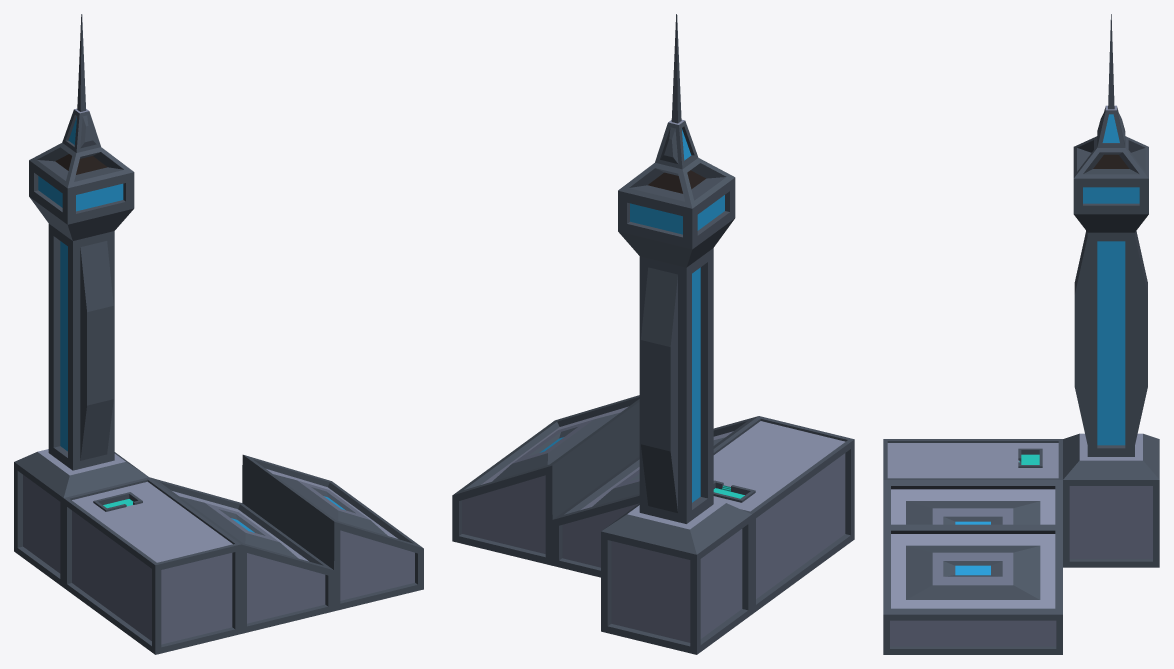
Rendered from FuturisticBuilding.fbx.
3 views of the same model, side by side, from view 1: azimuth 30°, elevation 25°; view 2: azimuth 150°, elevation 25°; view 3: azimuth 270°, elevation 25° (orthographic). The views are drawn at different scales.
Visible parts, largest first — view 1: Cube; view 2: Cube; view 3: Cube.
Boxes of the visible parts, bbox=[...] form: Cube: bbox=[14, 14, 423, 654]; Cube: bbox=[452, 14, 854, 654]; Cube: bbox=[883, 14, 1159, 654].
Size of the model in its own units: 627 by 1216 by 571.
1 material, 1 textured.
